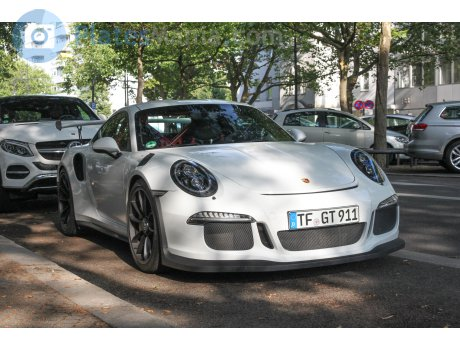License Plates: (296, 211, 352, 221)
